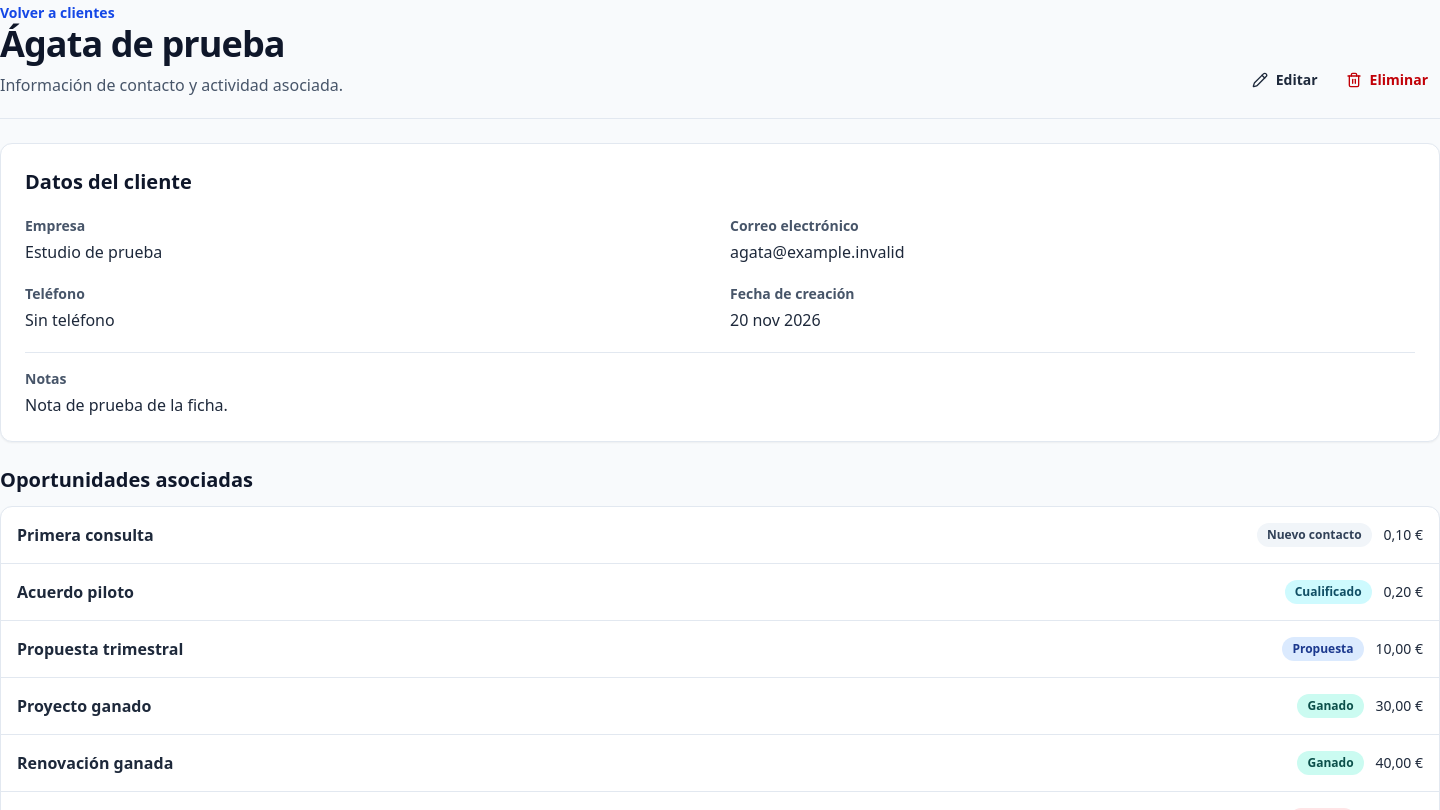
Test: Clientes › muestra el detalle e impide eliminar un cliente que tiene oportunidades
Later steps or results of the test are not shown.
Expected: the text "Nota de prueba de la ficha." is shown, top-left (25, 394), bottom-right (228, 416)
Expected: the heading "Oportunidades asociadas" is shown, top-left (0, 466), bottom-right (253, 493)
Step 1. Click the button "Eliminar" → (1387,80), box top-left (1334, 62), bottom-right (1439, 98)
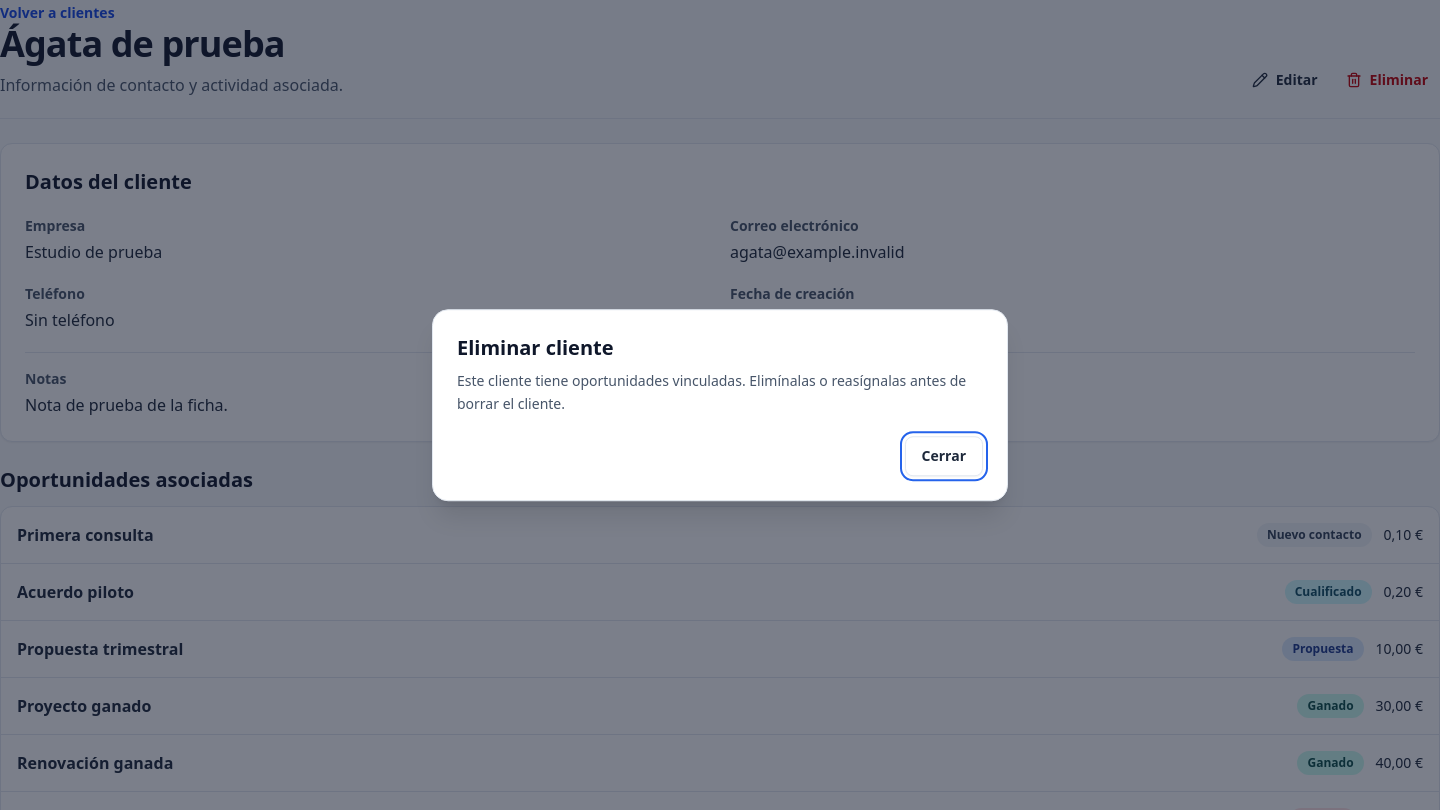
Now the dialog "Eliminar cliente" shows "oportunidades vinculadas", box top-left (457, 371), bottom-right (966, 413)
